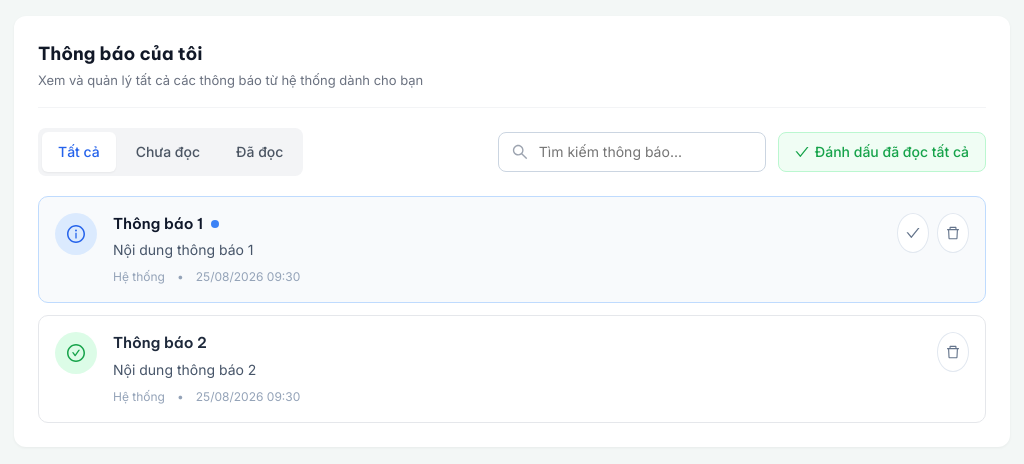
Scenario: NotificationsStaffScreen - đánh dấu đã đọc › đánh dấu tất cả là đã đọc
Expected: the heading "Thông báo 1" is shown, x1=113 y1=212 x2=203 y2=235
Click the button "Đánh dấu đã đọc tất cả": (882, 152) x1=778 y1=132 x2=986 y2=172
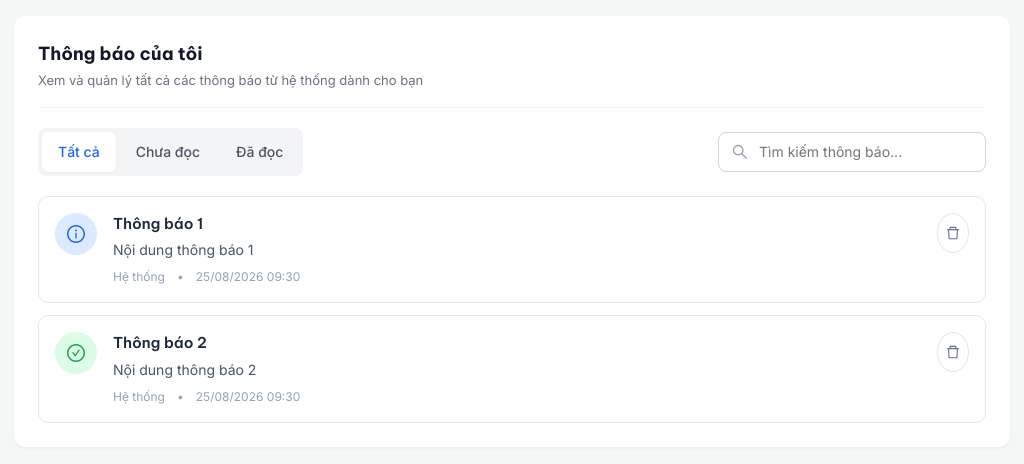
Result: the button "Đánh dấu đã đọc tất cả" is gone
